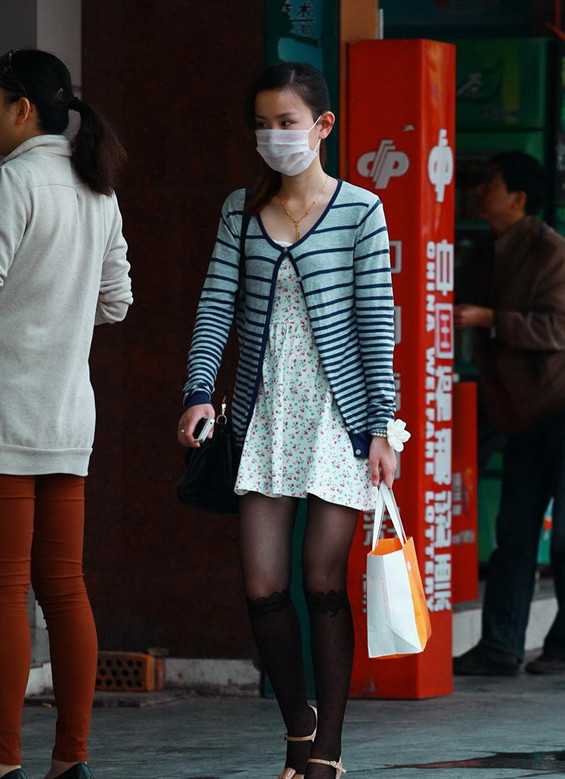face: (480, 166, 512, 227)
face_mask: (254, 88, 314, 179)
